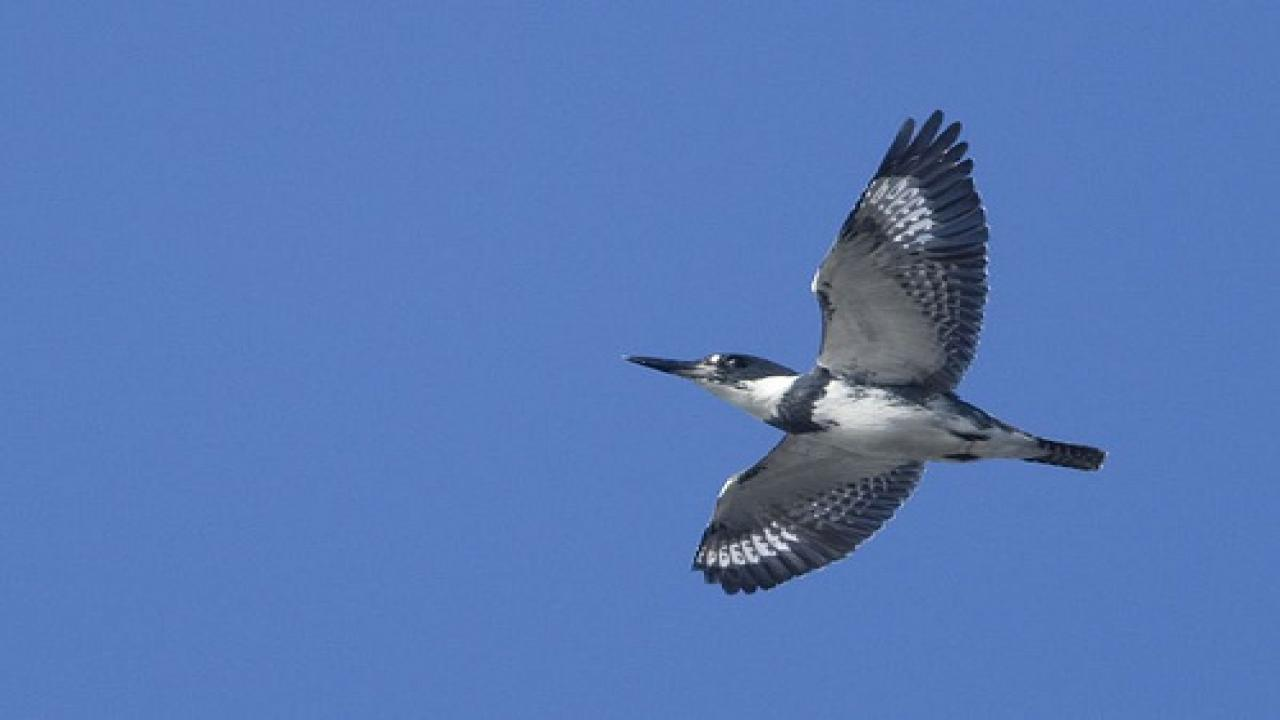Bird: (611, 97, 1119, 606)
